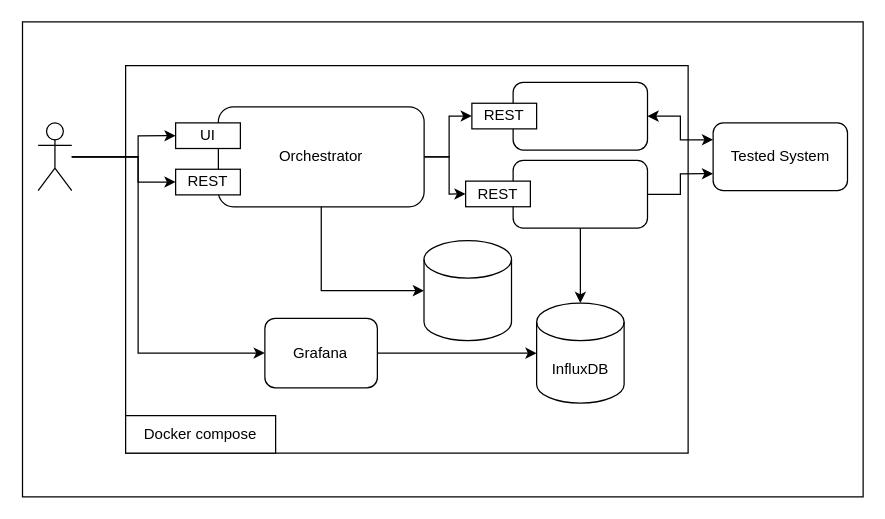
The diagram is 885 pixels wide and 519 high, and some of its shapes have lost their labels. Here are the shapes that lost their labels. From the top down, the centre of each, then its label:
At point 580,115: "Consul".
At point 54,156: "User".
At point 580,193: "Yandex Tank".
At point 467,290: "PostgreSQL".
